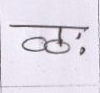u_matra: (45, 43, 72, 55)
